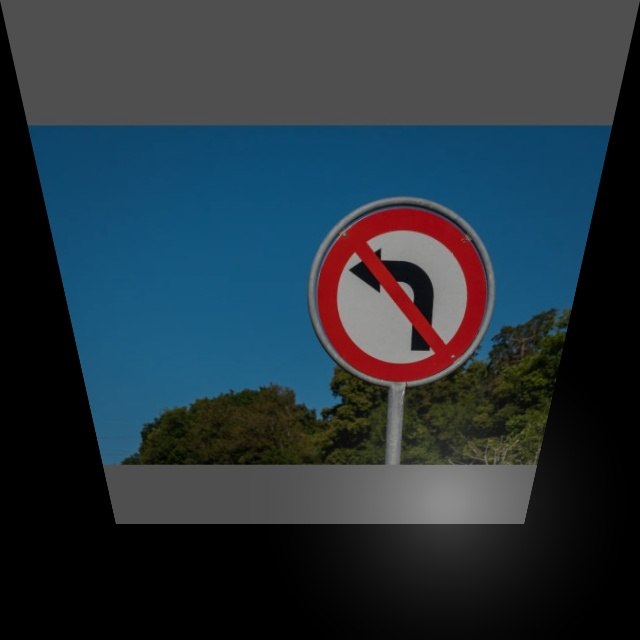Left_Turn_Prohibited: (308, 205, 509, 383)
